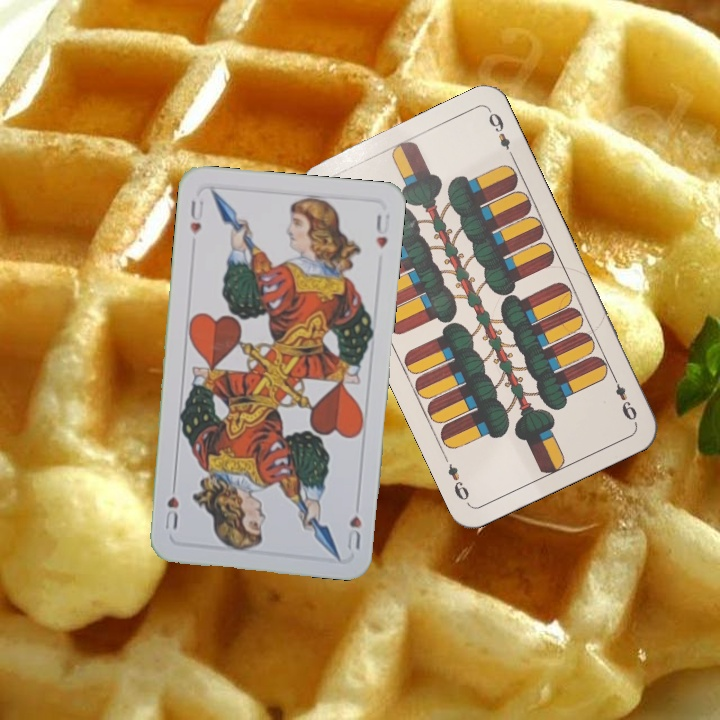E9: (607, 370, 640, 424)
HU: (186, 193, 207, 237), (343, 511, 364, 553)
